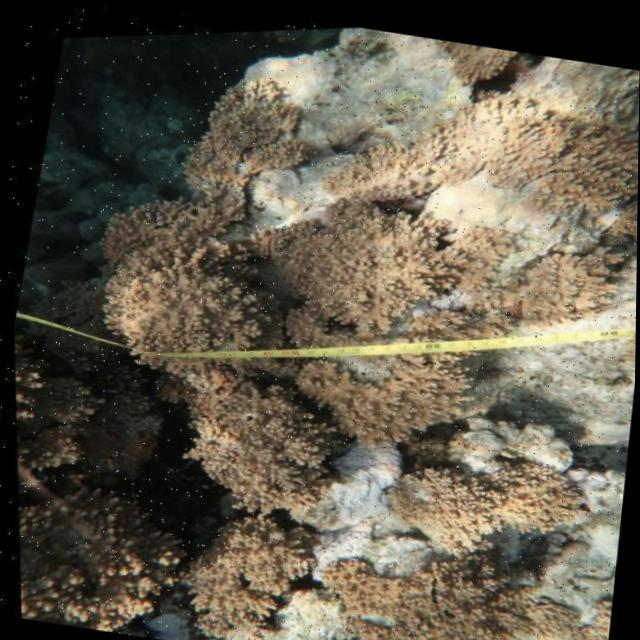Healthy Coral: (298, 39, 640, 243), (236, 167, 483, 369), (75, 200, 276, 394), (369, 412, 585, 577), (161, 337, 347, 523), (152, 40, 323, 203), (1, 481, 178, 638), (156, 495, 341, 640), (319, 527, 556, 640), (292, 323, 481, 460), (73, 154, 261, 275), (466, 216, 632, 350)
